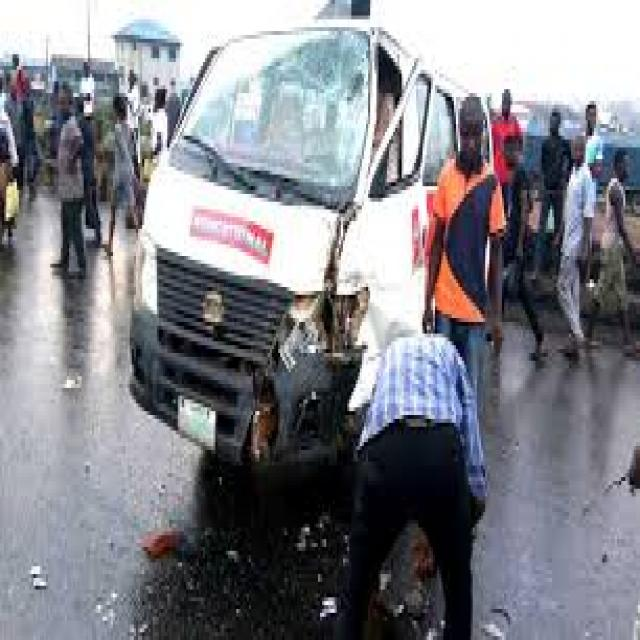accident: (101, 17, 514, 497)
